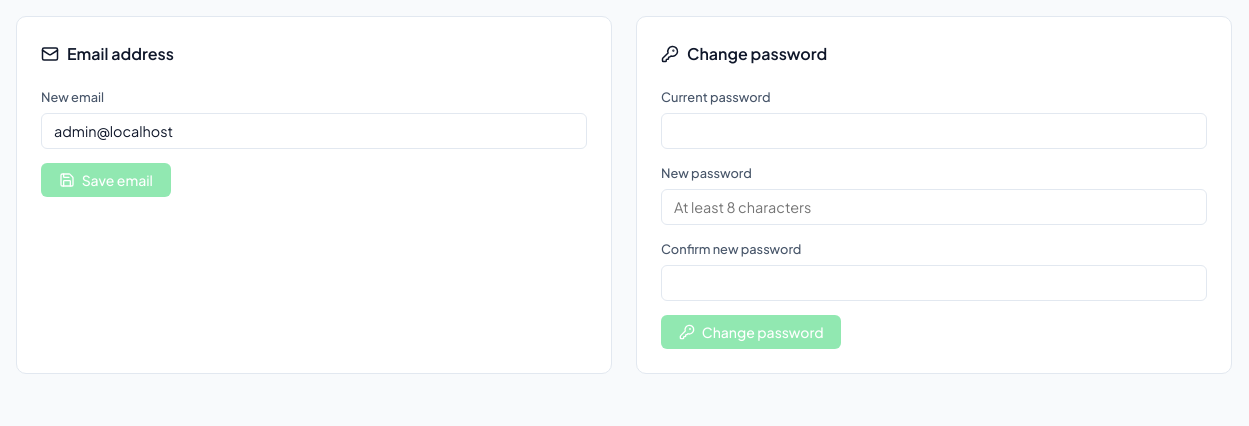
Scenario: Profile page › with JWT › password change › shows error on changePassword API failure
Step 1. Type "wrongpass" into the password field labelled "Current password" → (934, 131), box 661,113 -> 1207,149
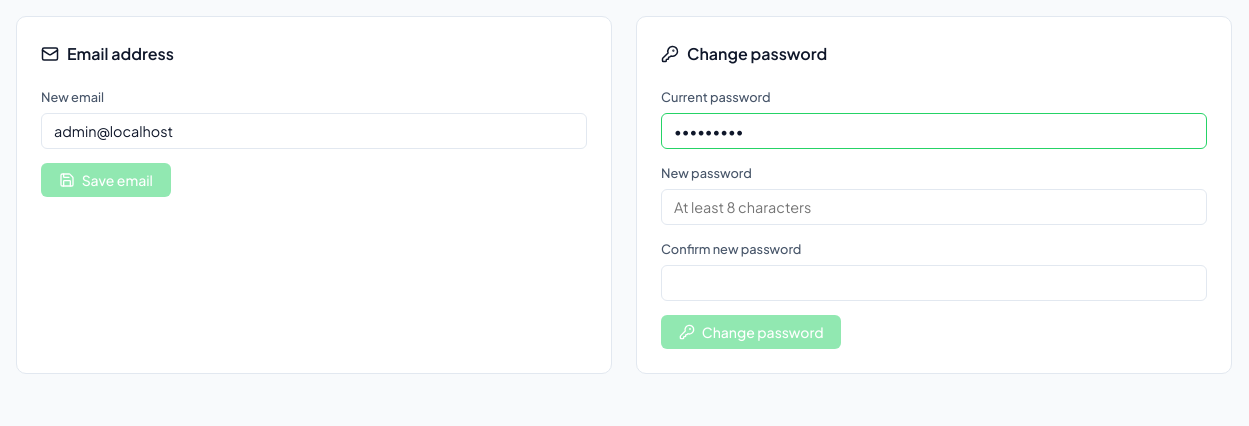
Step 2. Type "newpass123" into the password field labelled "New password" → (934, 207), box 661,189 -> 1207,225
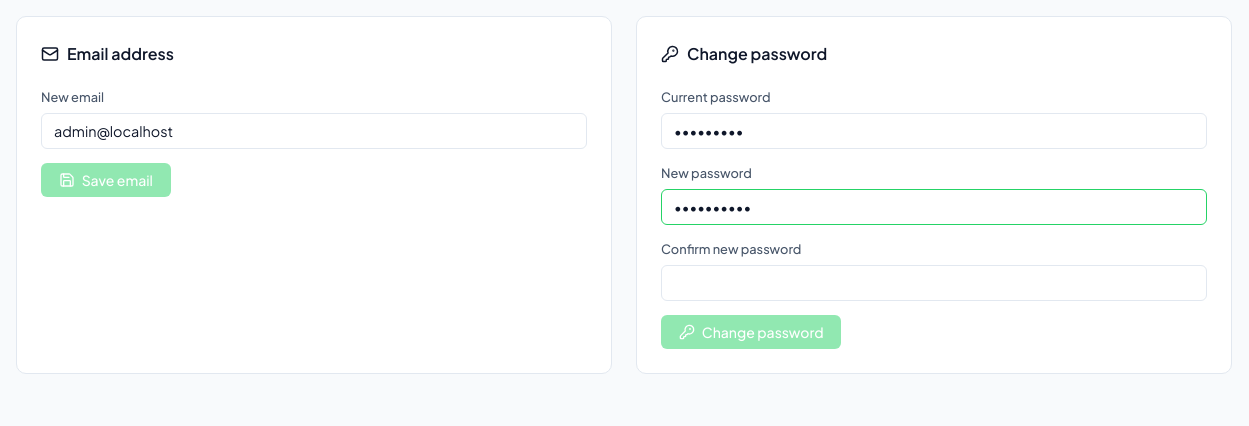
Step 3. Type "newpass123" into the password field labelled "Confirm new password" → (934, 283), box 661,265 -> 1207,301
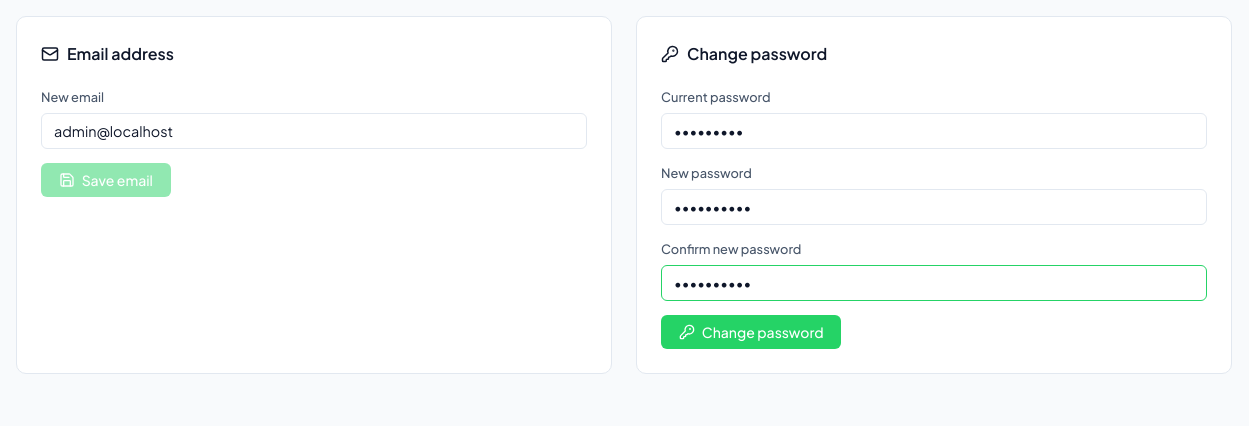
Step 4. Click the button "Change password" → (751, 332), box 661,315 -> 841,349
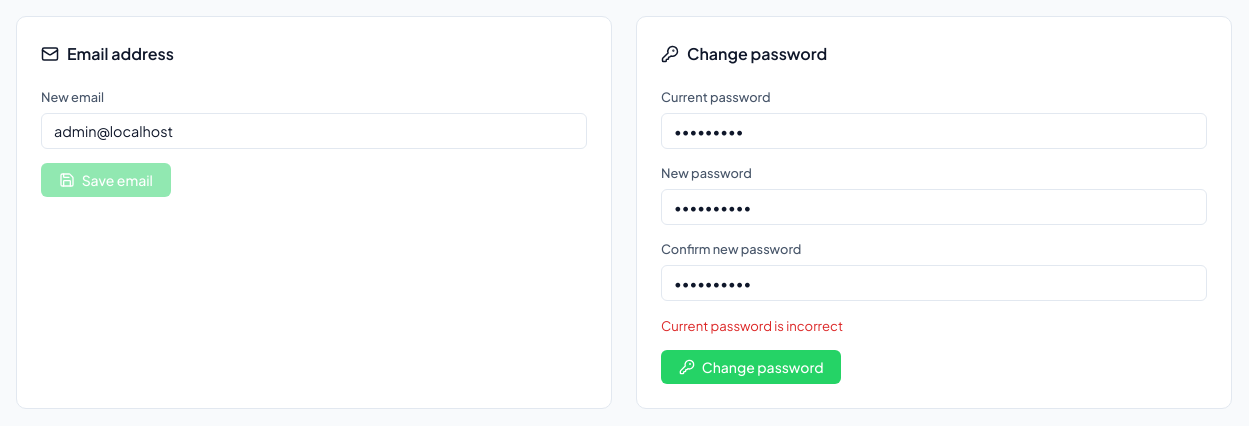
Now the text "Current password is incorrect" is shown, box 661,317 -> 843,334
